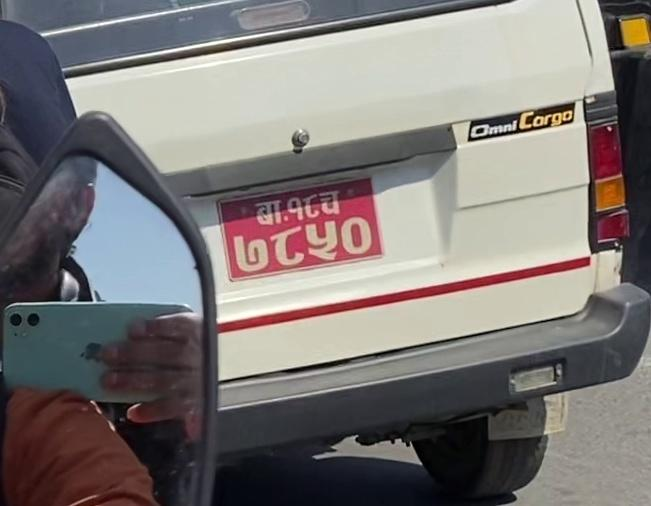license-plate: (216, 181, 393, 274)
